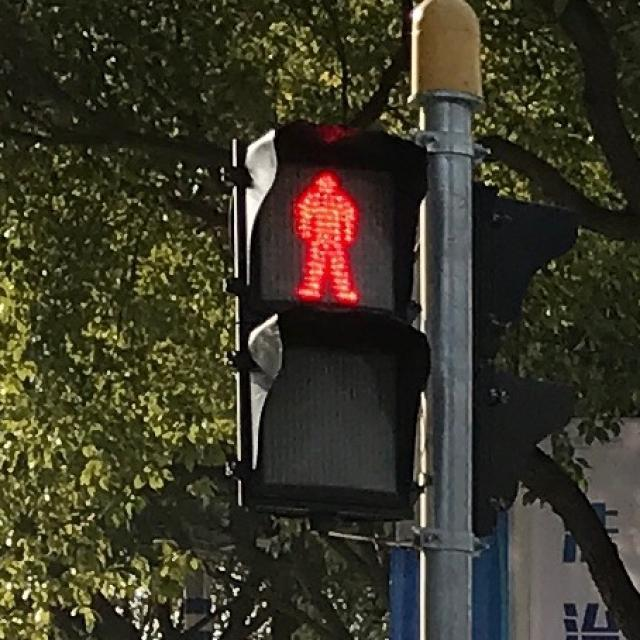red-crossing: (251, 150, 396, 314)
